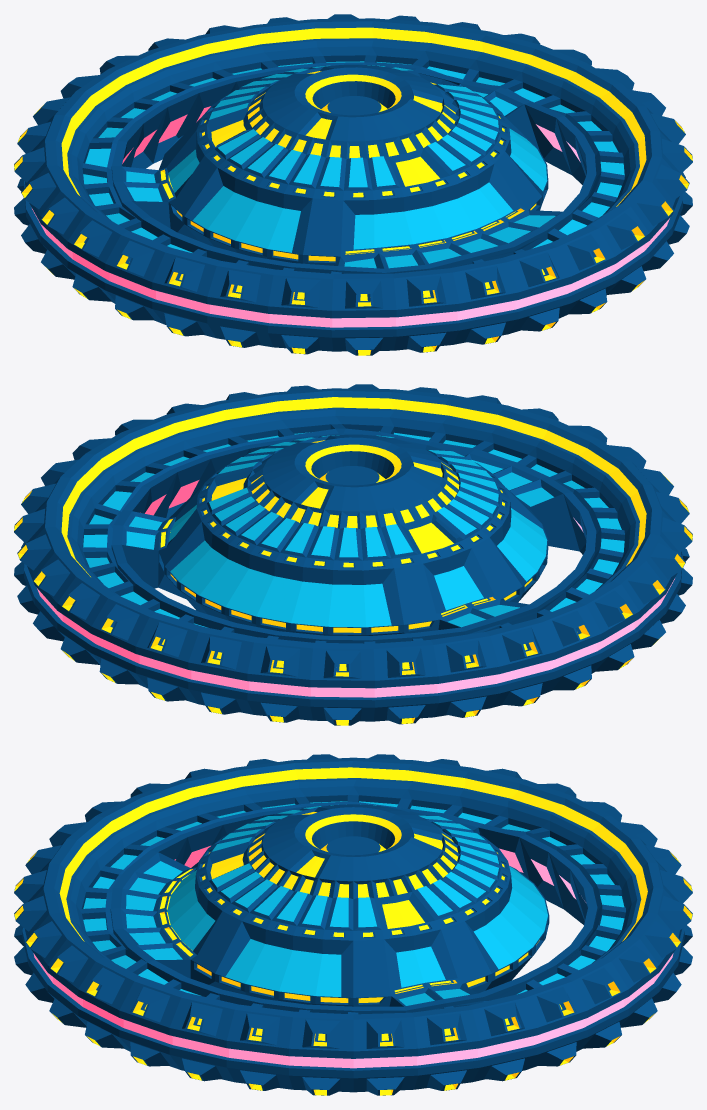
The model's file is asset.glb.
The picture shows the model from 3 angles, top to bottom: view 1: azimuth 30°, elevation 25°; view 2: azimuth 150°, elevation 25°; view 3: azimuth 270°, elevation 25°; orthographic projection.
Visible parts, largest first — view 1: Cylinder; view 2: Cylinder; view 3: Cylinder.
Boxes of the visible parts, bbox=[...] form: Cylinder: bbox=[14, 14, 692, 355]; Cylinder: bbox=[14, 384, 692, 725]; Cylinder: bbox=[14, 754, 692, 1095].
Bounding box in the file's own units: 8.48 × 2.54 × 8.48.
